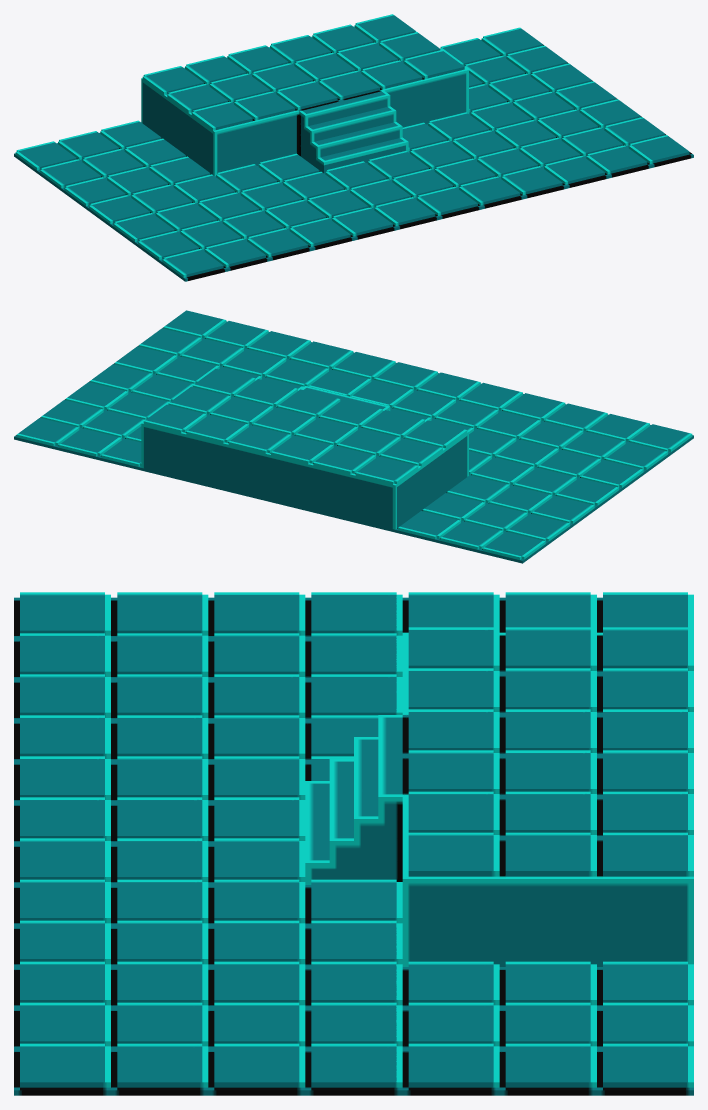
Rendered from FloorItemRoom.glb.
3 views of the same model, one above another, from view 1: azimuth 30°, elevation 25°; view 2: azimuth 150°, elevation 25°; view 3: azimuth 270°, elevation 25° (orthographic). The views are drawn at different scales.
Visible parts, largest first — view 1: FloorItemRoom; view 2: FloorItemRoom; view 3: FloorItemRoom.
Part boxes in pixels (box(x1,y1,x2,y2)): FloorItemRoom: box(14, 14, 693, 281); FloorItemRoom: box(14, 310, 693, 563); FloorItemRoom: box(14, 592, 693, 1095).
Size of what is drawn, in the model's own units: 19.2 by 1.8 by 11.2.
1 material, 1 textured.
